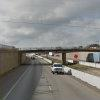Bridge: (17, 37, 100, 59)
